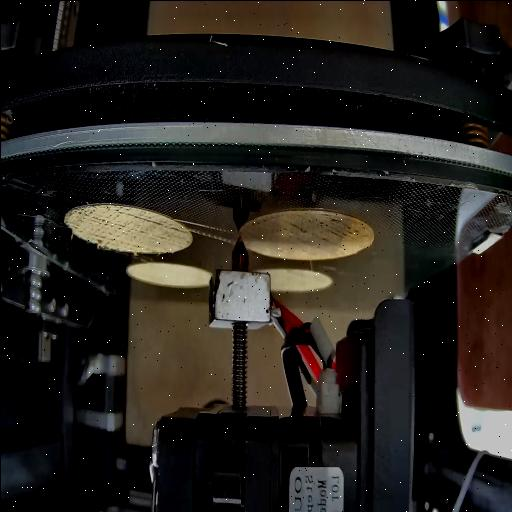under_extrusion: (72, 206, 190, 252), (250, 216, 368, 245)
